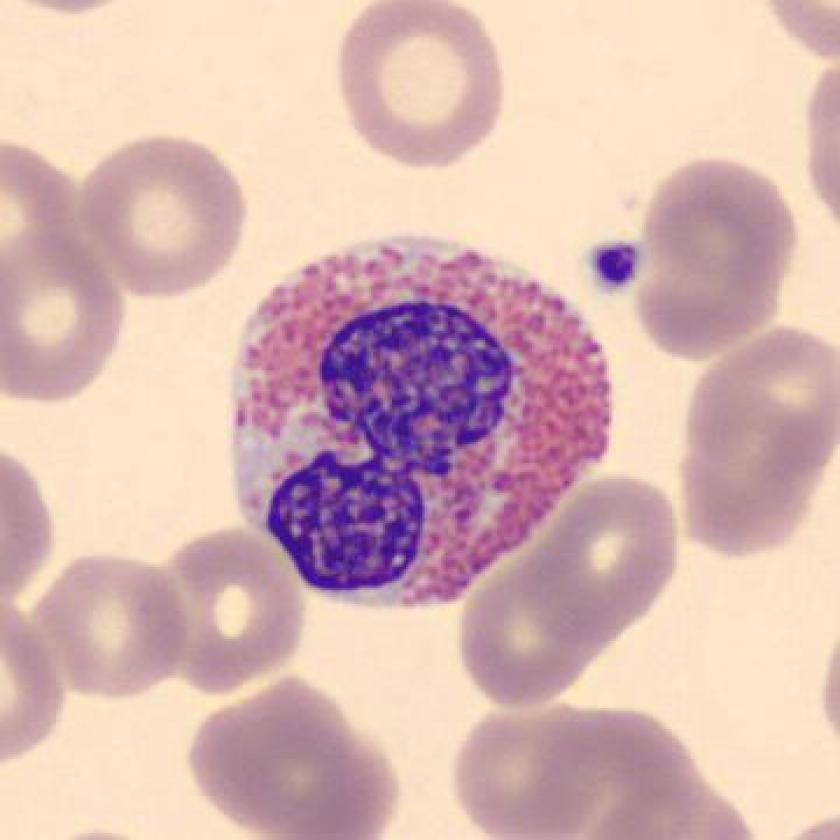eosinophil: (213, 223, 624, 626)
